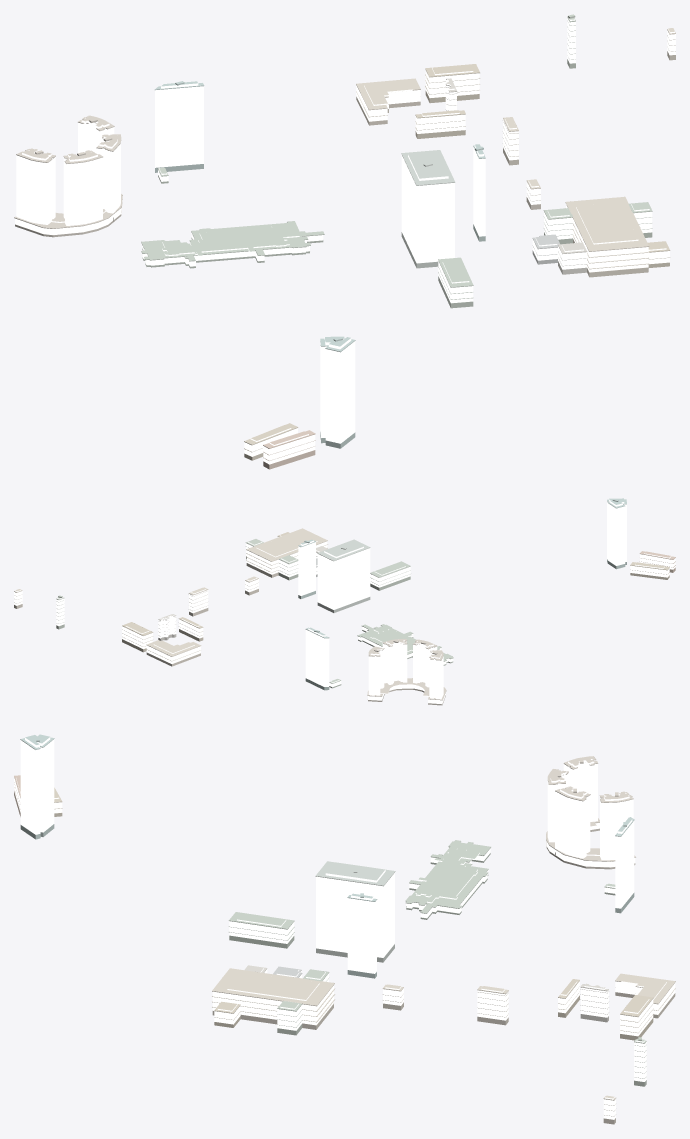
Rendered from buildings-4_-2-fine.glb.
3 views of the same model, one above another, from view 1: azimuth 30°, elevation 25°; view 2: azimuth 150°, elevation 25°; view 3: azimuth 270°, elevation 25° (orthographic). The views are drawn at different scales.
Visible parts, largest first — view 1: block_4_-2_office, block_4_-2_roof, block_4_-2_residential, block_4_-2_darkglass, block_4_-2_concrete; view 2: block_4_-2_office, block_4_-2_roof, block_4_-2_residential, block_4_-2_darkglass, block_4_-2_concrete; view 3: block_4_-2_office, block_4_-2_roof, block_4_-2_residential, block_4_-2_darkglass, block_4_-2_concrete.
Boxes of the visible parts, x1,y1,x2,y2 form: block_4_-2_office: (16,83,485,443); block_4_-2_roof: (14,14,675,460); block_4_-2_residential: (15,17,675,464); block_4_-2_darkglass: (15,51,675,469); block_4_-2_concrete: (14,17,675,460); block_4_-2_office: (298,499,626,699); block_4_-2_roof: (14,498,675,704); block_4_-2_residential: (14,535,675,703); block_4_-2_darkglass: (14,556,675,705); block_4_-2_concrete: (14,536,675,700); block_4_-2_office: (20,737,634,973); block_4_-2_roof: (14,734,675,1114); block_4_-2_residential: (14,777,675,1119); block_4_-2_darkglass: (14,791,675,1124); block_4_-2_concrete: (14,777,675,1116).
Size of the model in its own units: 535 by 70.54 by 451.
